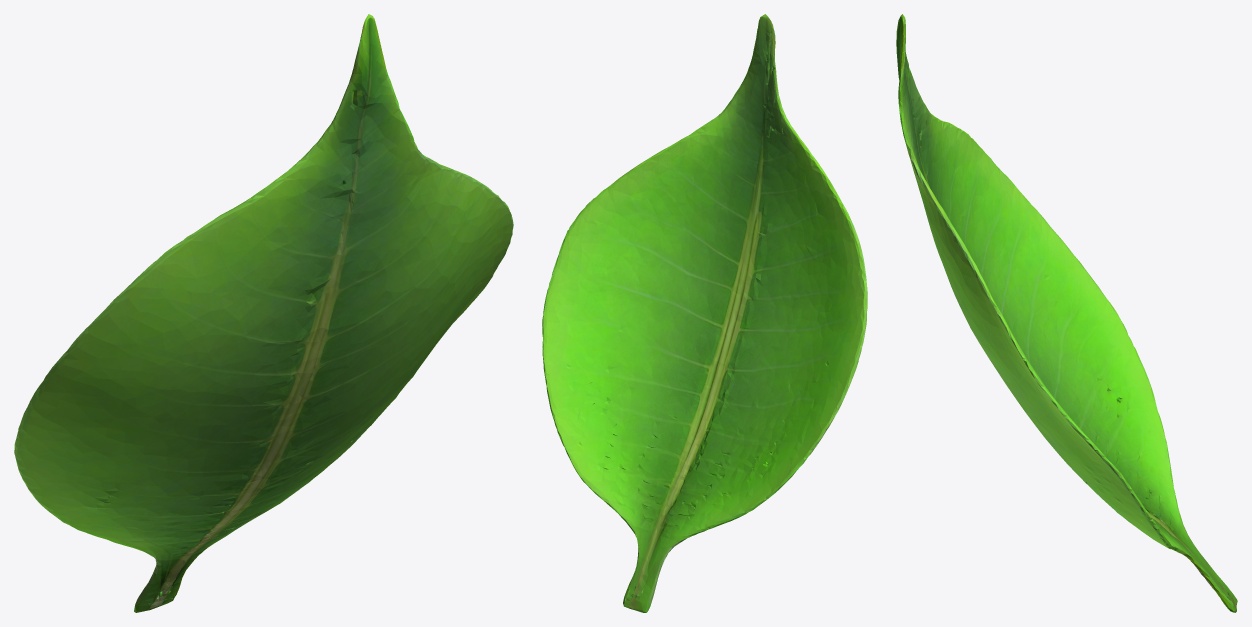
File: Leaf1.fbx
3 renders of one model, left to right at view 1: azimuth 30°, elevation 25°; view 2: azimuth 150°, elevation 25°; view 3: azimuth 270°, elevation 25°, orthographic. The views are drawn at different scales.
Visible parts, largest first — view 1: temp; view 2: temp; view 3: temp.
Boxes of the visible parts, left/top/right/bottom form: temp: left=14, top=14, right=513, bottom=612; temp: left=542, top=14, right=867, bottom=612; temp: left=896, top=14, right=1237, bottom=612.
Bounding box in the file's own units: 129 × 199 × 103.
1 material, 1 textured.
